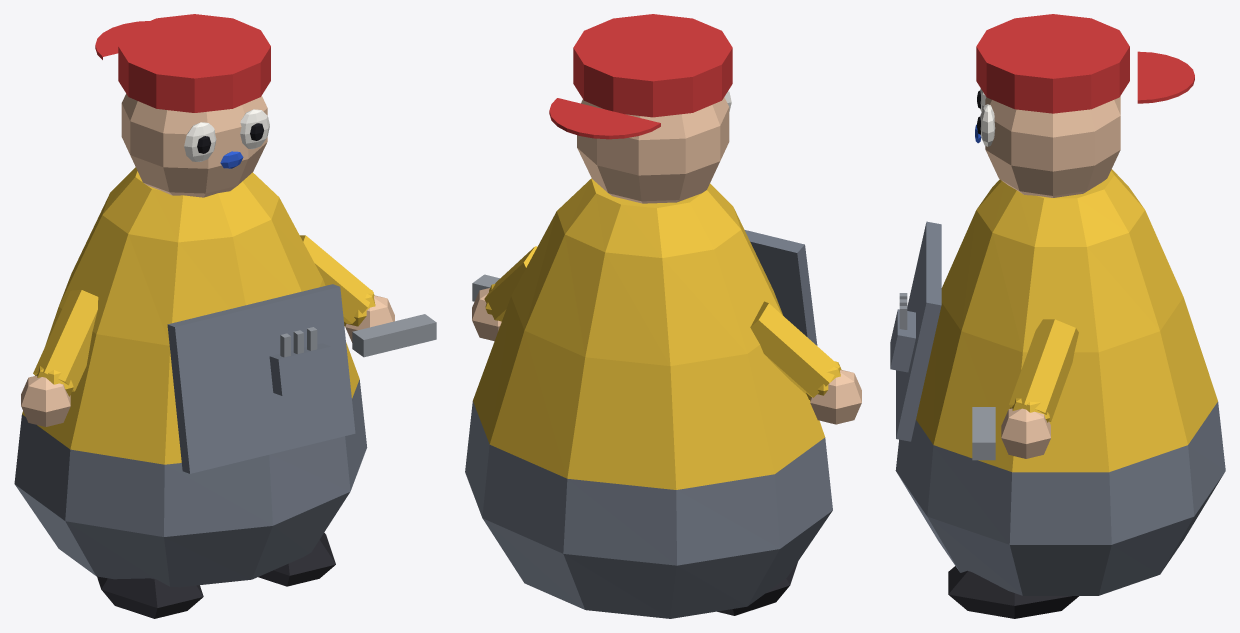
File: npc_tipito.glb
The picture shows the model from 3 angles, left to right: view 1: azimuth 30°, elevation 25°; view 2: azimuth 150°, elevation 25°; view 3: azimuth 270°, elevation 25°; orthographic projection. The views are drawn at different scales.
Visible parts, largest first — view 1: body_tipito_overalls, body_tipito_shirt, hat_tipito_cap, head_tipito_skin, arms_tipito_shirt, legs_tipito_shoes, arms_tipito_skin, tool_tipito_lead, face_white, body_tipito_lead; view 2: body_tipito_shirt, body_tipito_overalls, hat_tipito_cap, head_tipito_skin, arms_tipito_shirt, arms_tipito_skin, legs_tipito_shoes; view 3: body_tipito_shirt, body_tipito_overalls, hat_tipito_cap, head_tipito_skin, arms_tipito_shirt, legs_tipito_shoes, arms_tipito_skin, tool_tipito_lead, face_white.
Part boxes in pixels (bbox=[...]): body_tipito_overalls: bbox=[14, 284, 367, 587]; body_tipito_shirt: bbox=[22, 167, 359, 464]; hat_tipito_cap: bbox=[95, 14, 270, 112]; head_tipito_skin: bbox=[121, 94, 267, 197]; arms_tipito_shirt: bbox=[33, 235, 375, 396]; legs_tipito_shoes: bbox=[97, 532, 335, 618]; arms_tipito_skin: bbox=[21, 295, 394, 426]; tool_tipito_lead: bbox=[352, 314, 436, 357]; face_white: bbox=[184, 109, 269, 161]; body_tipito_lead: bbox=[280, 327, 317, 357]; body_tipito_shirt: bbox=[473, 178, 824, 489]; body_tipito_overalls: bbox=[465, 230, 832, 618]; hat_tipito_cap: bbox=[549, 14, 732, 139]; head_tipito_skin: bbox=[577, 97, 729, 203]; arms_tipito_shirt: bbox=[484, 246, 841, 399]; arms_tipito_skin: bbox=[472, 288, 861, 424]; legs_tipito_shoes: bbox=[717, 562, 797, 615]; body_tipito_shirt: bbox=[916, 169, 1217, 472]; body_tipito_overalls: bbox=[890, 221, 1225, 595]; hat_tipito_cap: bbox=[976, 14, 1194, 113]; head_tipito_skin: bbox=[985, 96, 1120, 197]; arms_tipito_shirt: bbox=[1009, 319, 1078, 422]; legs_tipito_shoes: bbox=[948, 566, 1078, 618]; arms_tipito_skin: bbox=[1001, 408, 1050, 458]; tool_tipito_lead: bbox=[972, 407, 995, 460]; face_white: bbox=[980, 88, 995, 146].
Size of the model in its own units: 1.18 by 1.53 by 0.8744.
